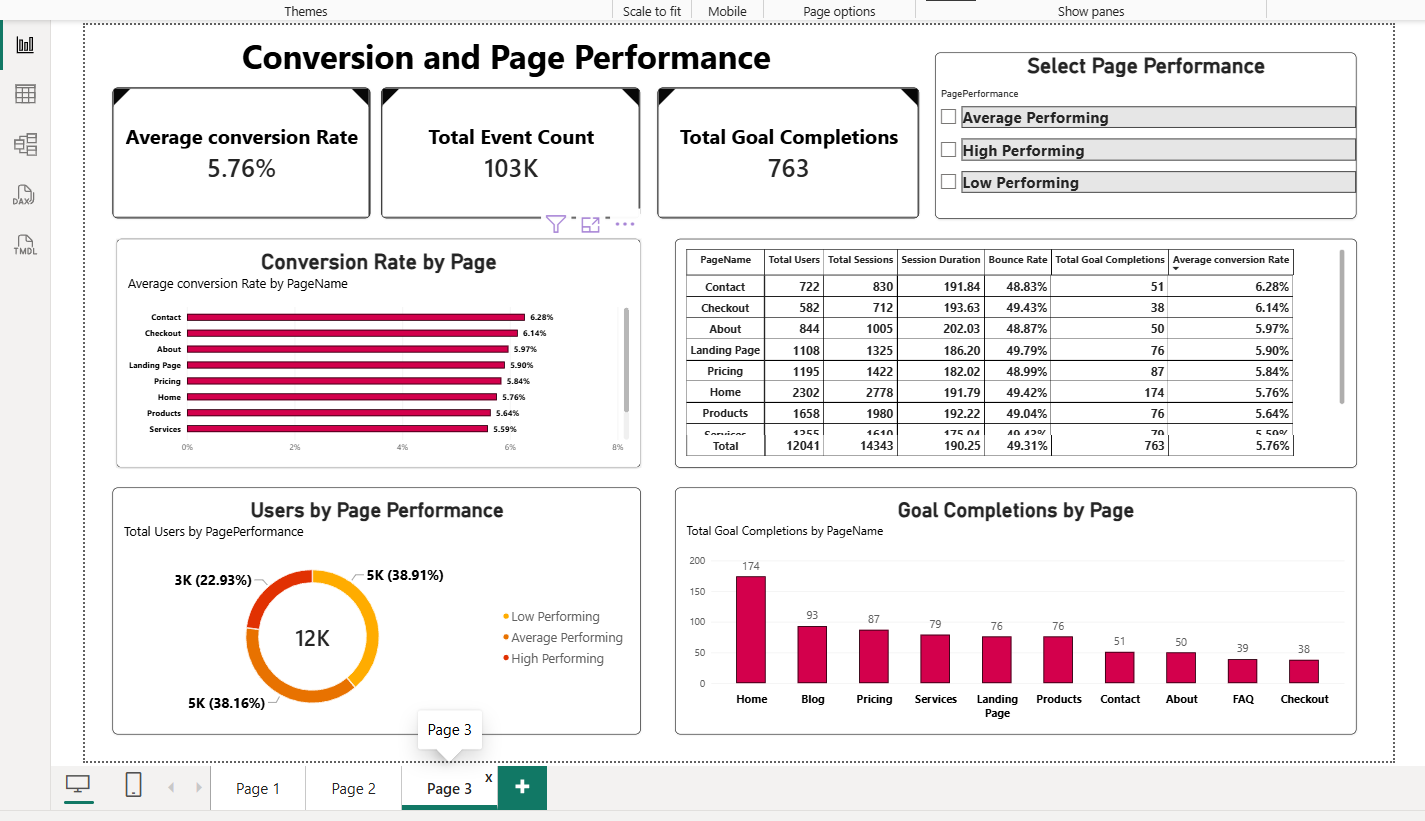

The dashboard page shown, as its layout file describes it:
{"tool":"powerbi","page":{"name":"Page 3","canvas":[1920,1080],"ordinal":2},"visuals":[{"type":"textbox","box":[16.3,0,1208.2,79.7],"z":0},{"type":"cardVisual","fields":{"Data":["website_traffic_dashboard_project_ready.Conversion Rate"]},"box":[39.8,92.4,378.6,192],"z":1000},{"type":"cardVisual","fields":{"Data":["website_traffic_dashboard_project_ready.Total Event Count"]},"box":[434.7,92.4,380.4,192],"z":2000},{"type":"cardVisual","fields":{"Data":["website_traffic_dashboard_project_ready.Total Goal Completions"]},"box":[840.5,92.4,384,192],"z":3000},{"type":"slicer","title":"Select Page Performance","fields":{"Values":["website_traffic_dashboard_project_ready.PagePerformance"]},"box":[1248,39.8,595.9,224.6],"z":4000},{"type":"clusteredBarChart","title":"Conversion Rate by Page","fields":{"Category":["website_traffic_dashboard_project_ready.PageName"],"Y":["website_traffic_dashboard_project_ready.Conversion Rate"]},"box":[39.8,302.5,775.2,362.3],"z":5000},{"type":"clusteredColumnChart","title":"Goal Completions by Page","fields":{"Category":["website_traffic_dashboard_project_ready.PageName"],"Y":["website_traffic_dashboard_project_ready.Total Goal Completions"]},"box":[865.8,679.2,999.8,362.3],"z":6000},{"type":"donutChart","title":"Users by Page Performance","fields":{"Category":["website_traffic_dashboard_project_ready.PagePerformance"],"Y":["website_traffic_dashboard_project_ready.Total Users"]},"box":[39.8,679.2,775.2,362.3],"z":7000},{"type":"pivotTable","fields":{"Rows":["website_traffic_dashboard_project_ready.PageName"],"Values":["website_traffic_dashboard_project_ready.Total Users","website_traffic_dashboard_project_ready.Total Sessions","website_traffic_dashboard_project_ready.Average Session","website_traffic_dashboard_project_ready.Bounce Rate","website_traffic_dashboard_project_ready.Total Goal Completions","website_traffic_dashboard_project_ready.Conversion Rate"]},"box":[865.8,302.5,999.8,340.5],"z":8000}]}

Visuals, with their boxes on the page's 1920x1080 design canvas (x1, y1, x2, y2). These are canvas units, not pixel positions in the 1425x821 screenshot, which may show the page scaled, cropped or inside an application window:
textbox: (16, 0, 1224, 80)
cardVisual - website_traffic_dashboard_project_ready.Conversion Rate: (40, 92, 418, 284)
cardVisual - website_traffic_dashboard_project_ready.Total Event Count: (435, 92, 815, 284)
cardVisual - website_traffic_dashboard_project_ready.Total Goal Completions: (840, 92, 1224, 284)
"Select Page Performance" slicer: (1248, 40, 1844, 264)
"Conversion Rate by Page" clusteredBarChart: (40, 302, 815, 665)
"Goal Completions by Page" clusteredColumnChart: (866, 679, 1866, 1042)
"Users by Page Performance" donutChart: (40, 679, 815, 1042)
pivotTable - website_traffic_dashboard_project_ready.PageName x website_traffic_dashboard_project_ready.Total Users: (866, 302, 1866, 643)
